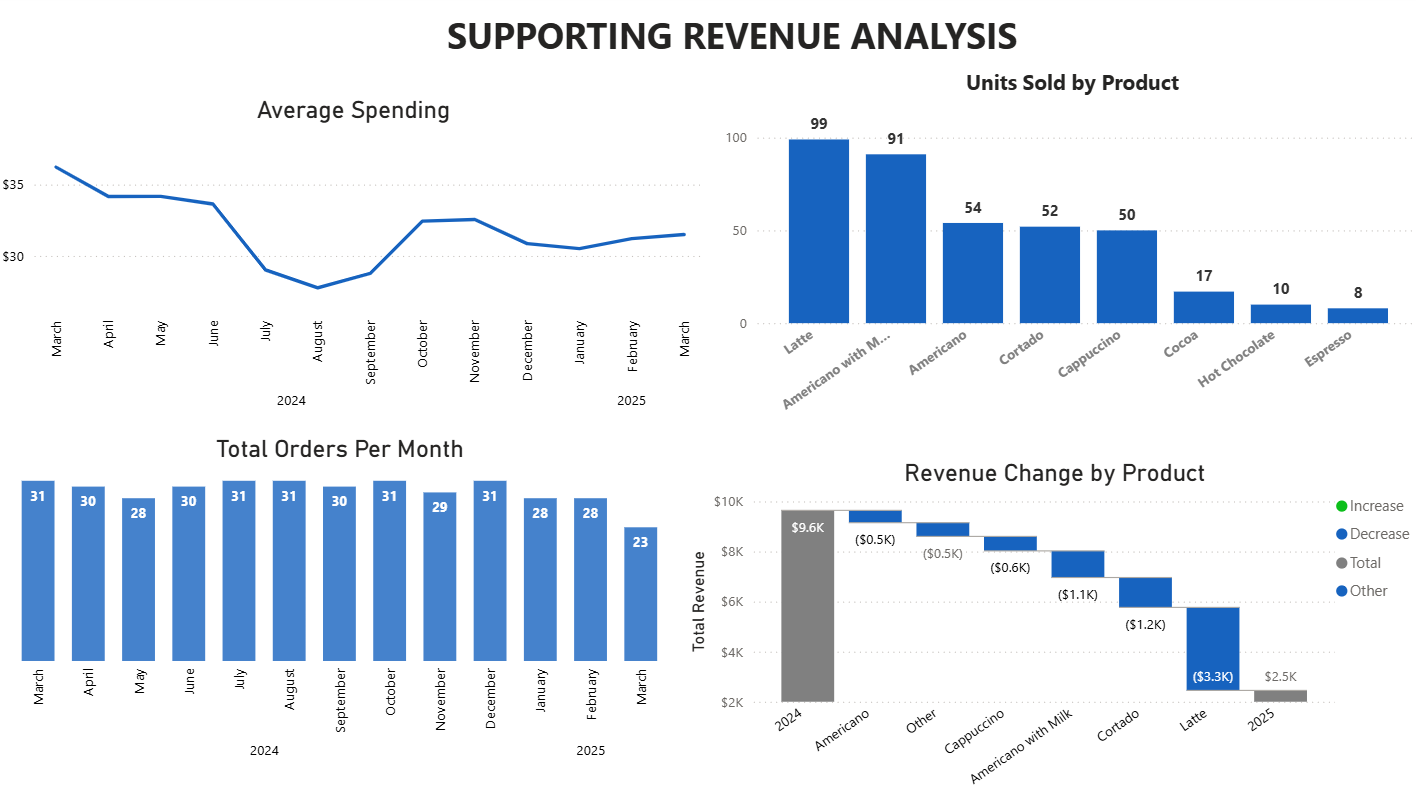

This screenshot's page, from the dashboard's own definition file:
{"tool":"powerbi","page":{"name":"Supporting Revenue Analysis","canvas":[1280,720],"ordinal":1},"visuals":[{"type":"lineStackedColumnComboChart","title":"Total Orders Per Month","fields":{"Category":["index_1.Date Hierarchy.year","index_1.Date Hierarchy.month"],"Y":["Measure Table.Total Orders"]},"box":[0,394.1,615.8,304.4],"z":0},{"type":"lineChart","title":"Average Spending","fields":{"Y":["Measure Table.Average Spending"],"Category":["index_1.Date Hierarchy.year","index_1.Date Hierarchy.month"]},"box":[0,90.7,640,294.3],"z":1000},{"type":"waterfallChart","title":"Revenue Change by Product","fields":{"Y":["Measure Table.Total Revenue"],"Breakdown":["index_1.coffee_name"],"Category":["index_1.Date Hierarchy.year","index_1.Date Hierarchy.month","index_1.Date Hierarchy.dates"]},"box":[615.8,415.2,664.2,304.4],"z":2000},{"type":"textbox","box":[320.5,8.1,677.3,57.4],"z":3000},{"type":"clusteredColumnChart","title":"Units Sold by Product","fields":{"Category":["index_1.coffee_name"],"Y":["Measure Table.Total Orders"]},"box":[647.1,65.5,632.9,319.5],"z":3001}]}

Visuals, with their boxes in screenshot pixels (x1, y1, x2, y2), scaled from the page's 1280x720 canvas onto the 1416x789 screenshot:
"Total Orders Per Month" lineStackedColumnComboChart: [x1=0, y1=432, x2=681, y2=765]
"Average Spending" lineChart: [x1=0, y1=99, x2=708, y2=422]
"Revenue Change by Product" waterfallChart: [x1=681, y1=455, x2=1415, y2=788]
textbox: [x1=355, y1=9, x2=1104, y2=72]
"Units Sold by Product" clusteredColumnChart: [x1=716, y1=72, x2=1415, y2=422]
